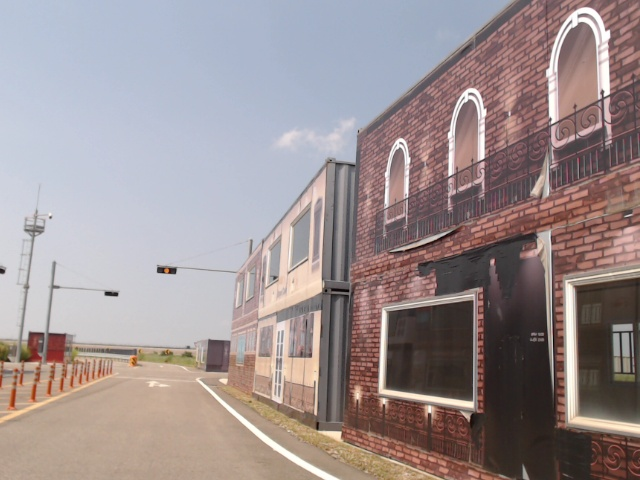orange_3: (156, 265, 176, 275)
